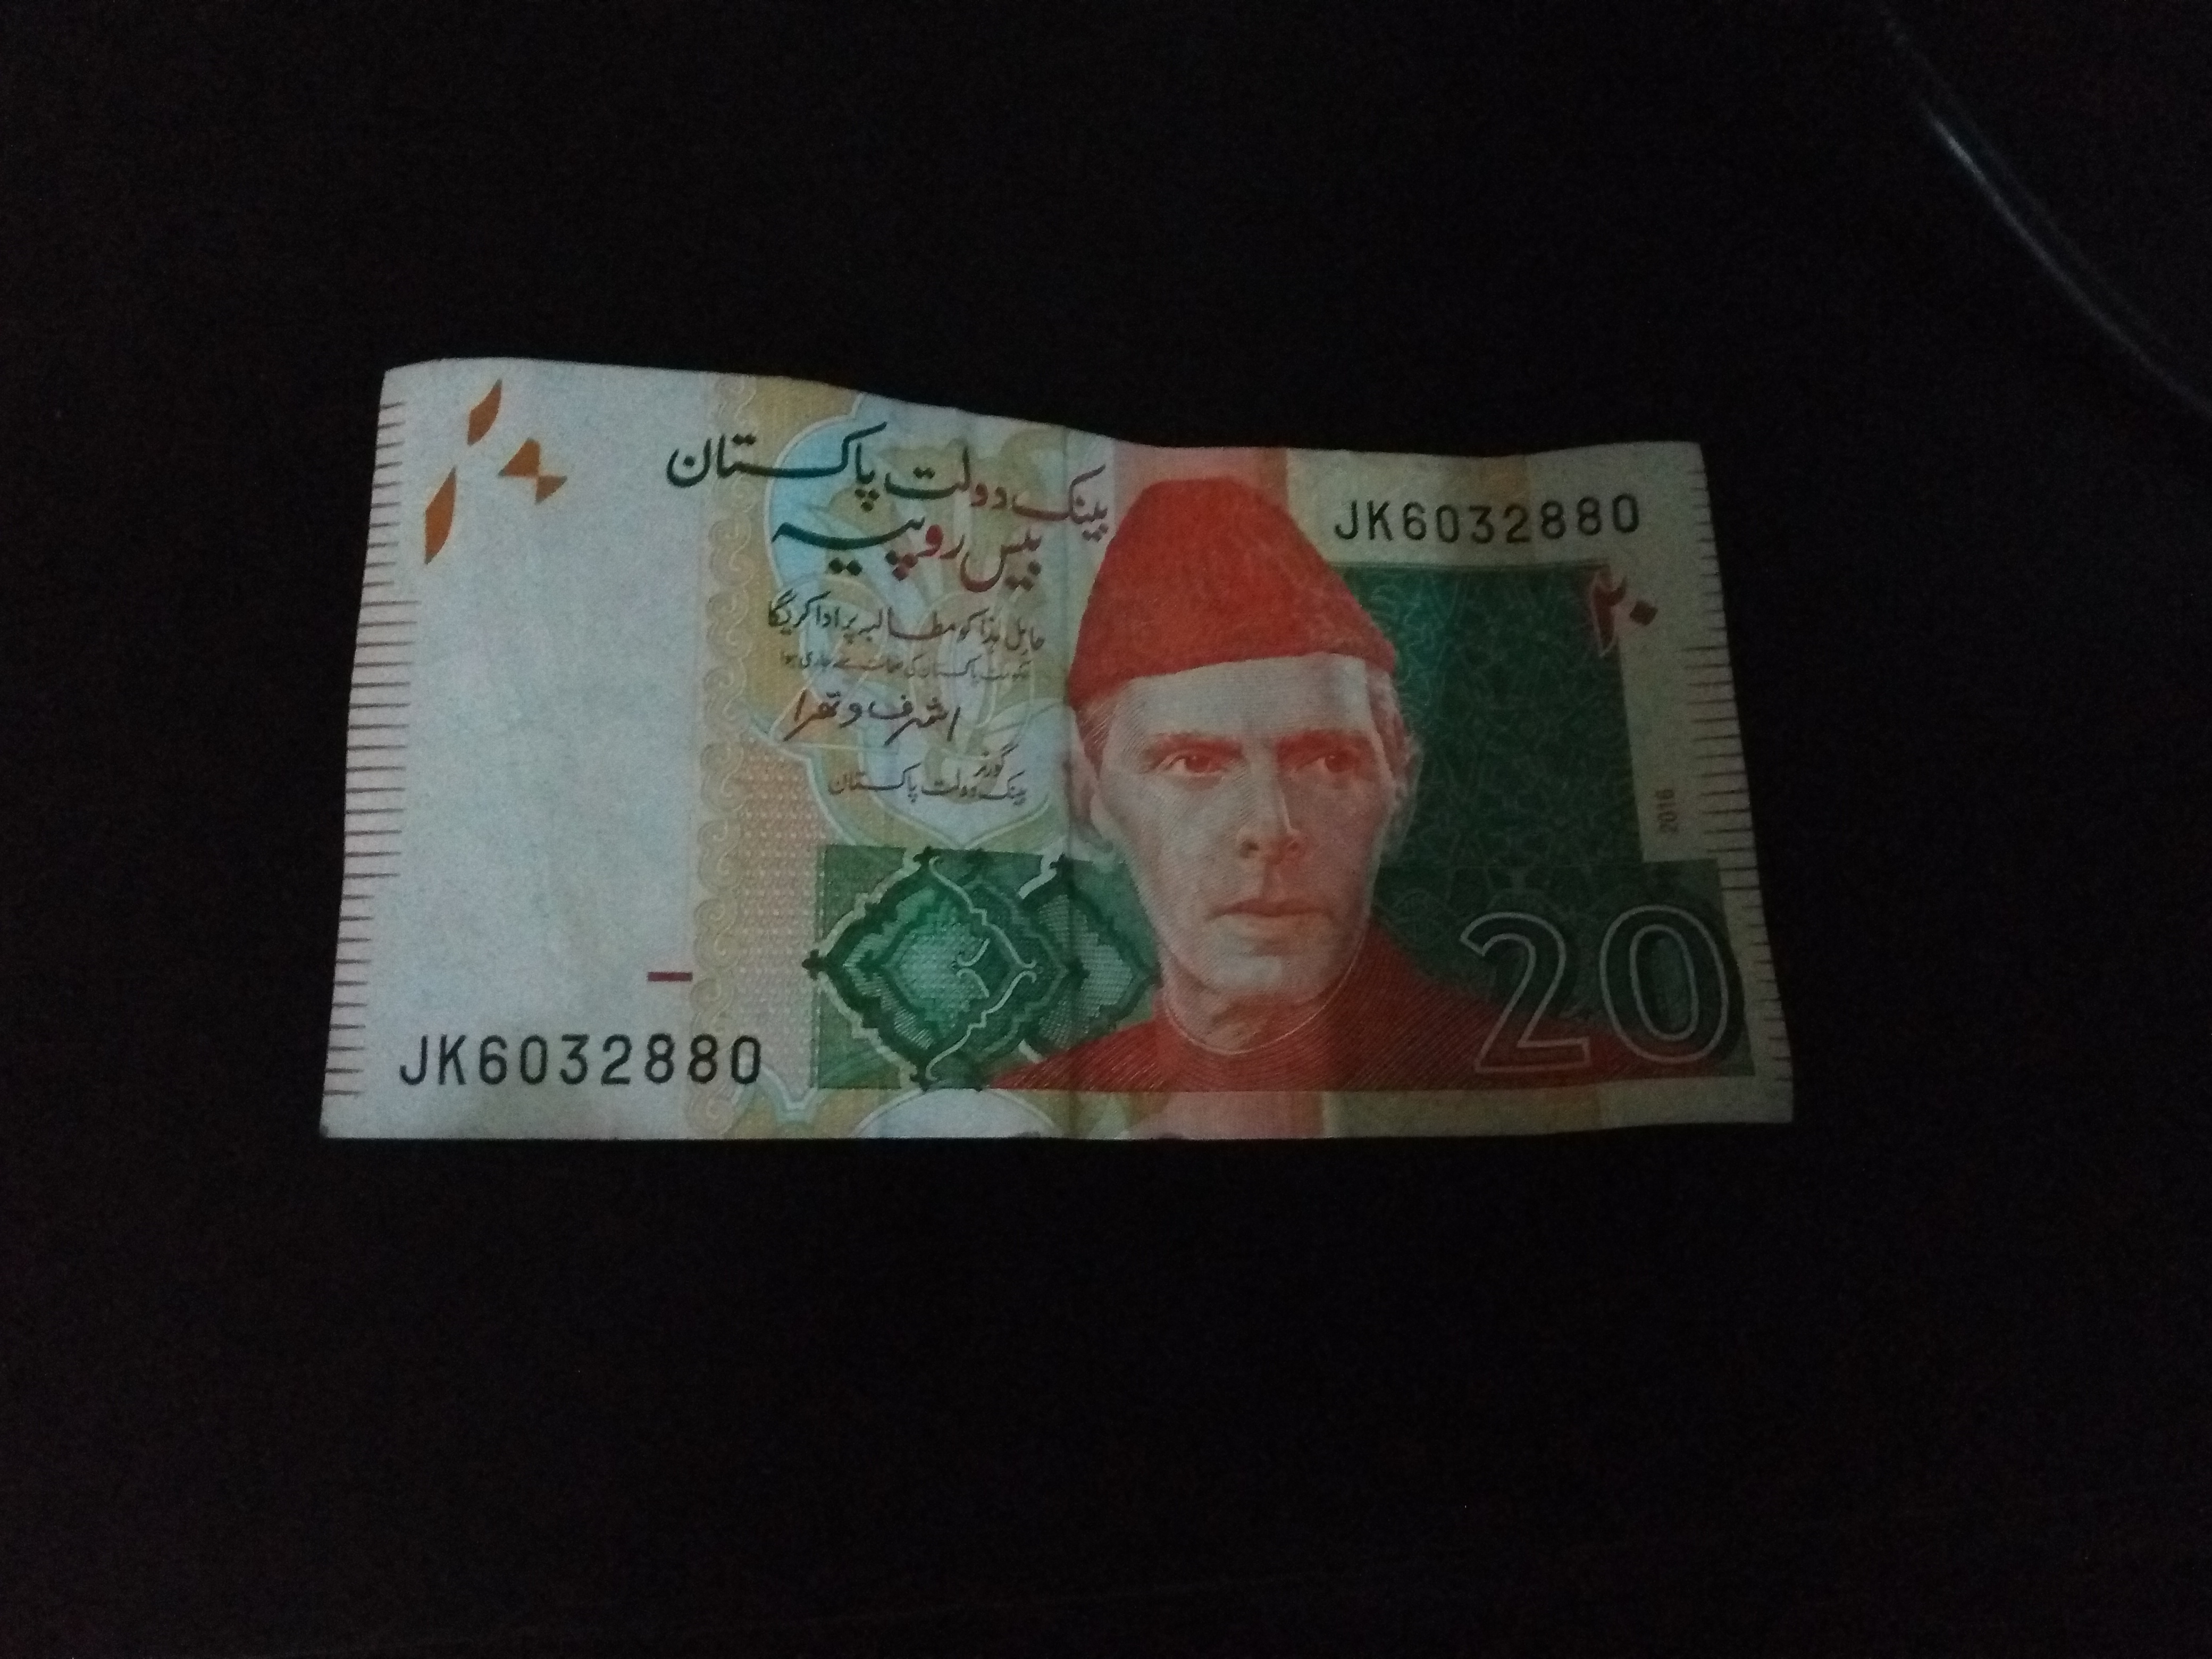20 rupee: (226, 343, 1858, 1312)
